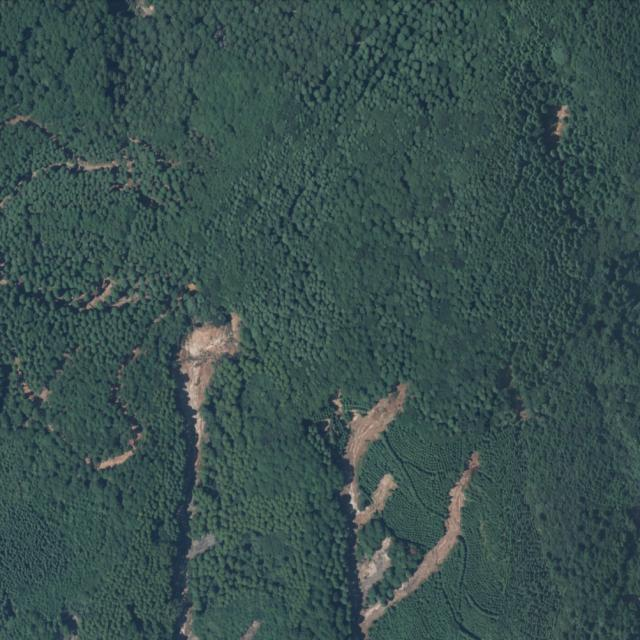landslide: (361, 453, 481, 640), (179, 312, 240, 472), (345, 384, 409, 468)
